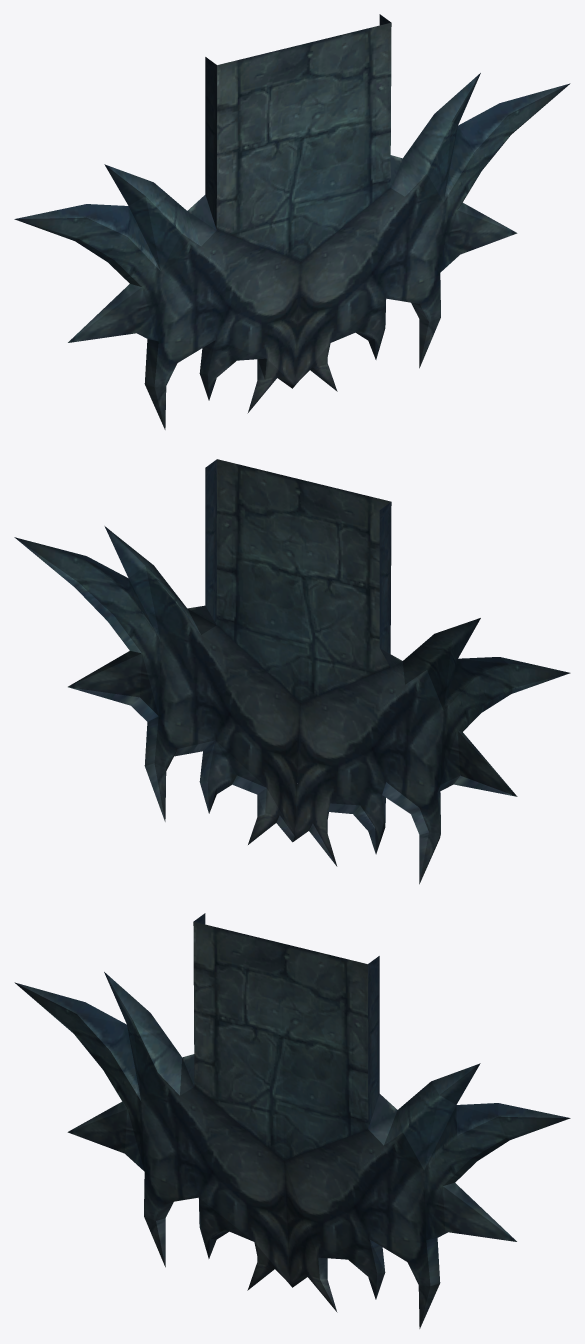
File: juqing_fuben_252_qiang_01_a.obj
The picture shows the model from 3 angles, top to bottom: view 1: azimuth 30°, elevation 25°; view 2: azimuth 150°, elevation 25°; view 3: azimuth 330°, elevation 25°; orthographic projection.
Parts seen in each view (by area): view 1: juqing_fuben_252_qiang_01_a; view 2: juqing_fuben_252_qiang_01_a; view 3: juqing_fuben_252_qiang_01_a.
Boxes of the visible parts, box(x1,y1,x2,y2) form: juqing_fuben_252_qiang_01_a: box(14, 14, 570, 429); juqing_fuben_252_qiang_01_a: box(14, 459, 570, 884); juqing_fuben_252_qiang_01_a: box(14, 913, 570, 1328).
Size of the model in its own units: 508 by 320 by 19.17.
Materials: 1 (1 with a texture image).
